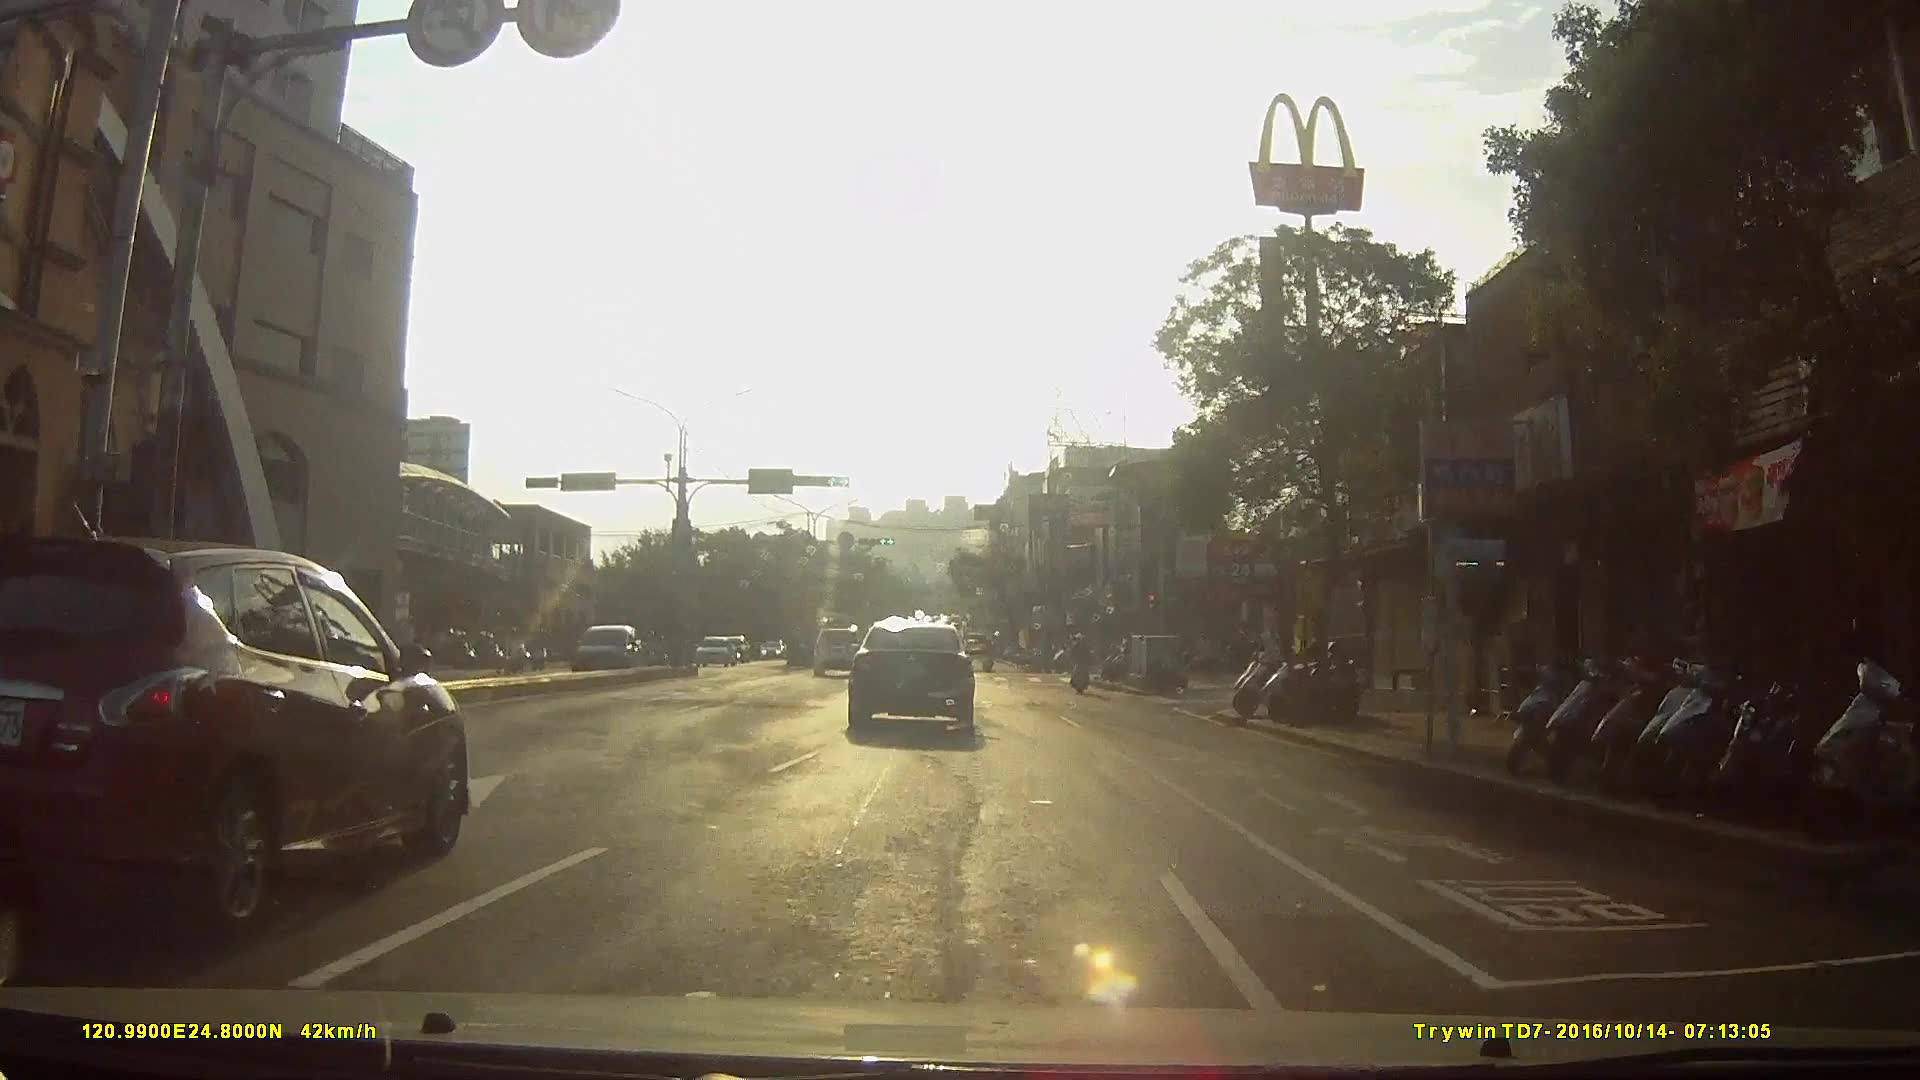rider: (1070, 628, 1095, 695), (978, 638, 998, 675)
vehicle: (1, 526, 481, 942), (844, 610, 991, 734), (561, 621, 652, 676), (809, 623, 866, 678), (691, 630, 739, 669), (709, 632, 754, 663)
